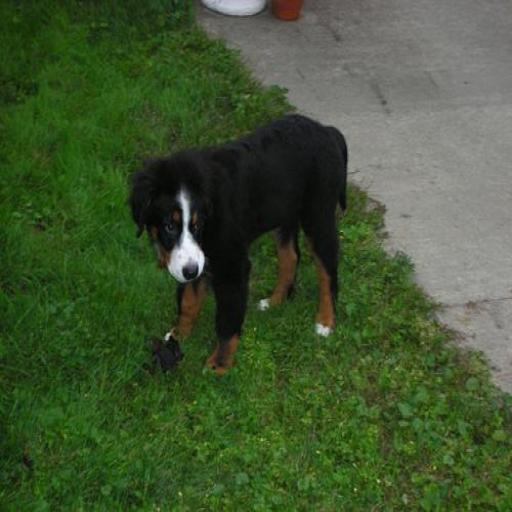dog_face: (126, 158, 228, 276)
